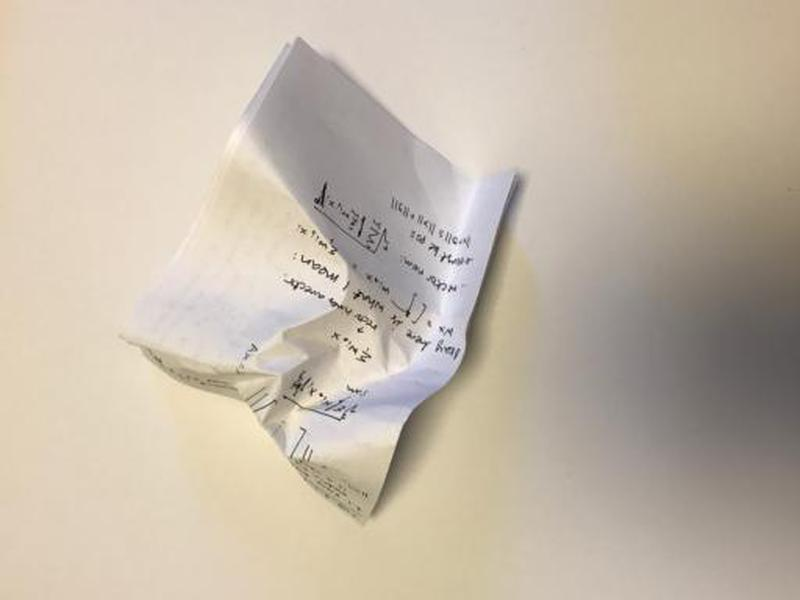paper: (117, 34, 524, 526)
